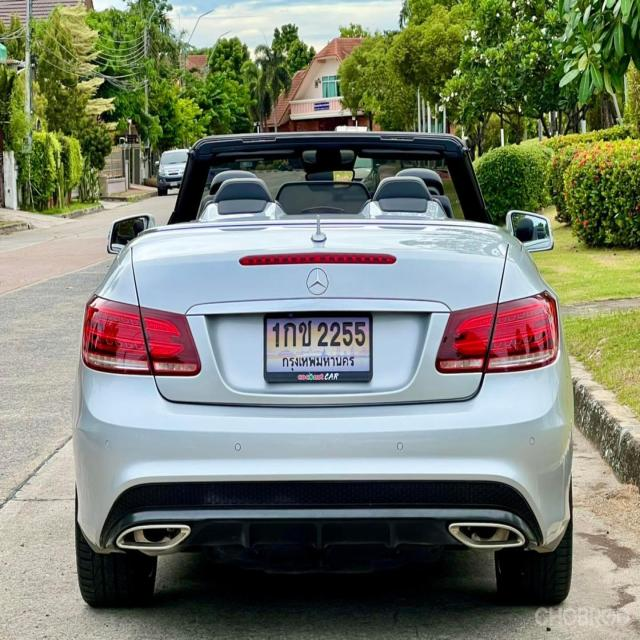license_plate: (254, 296, 383, 396)
